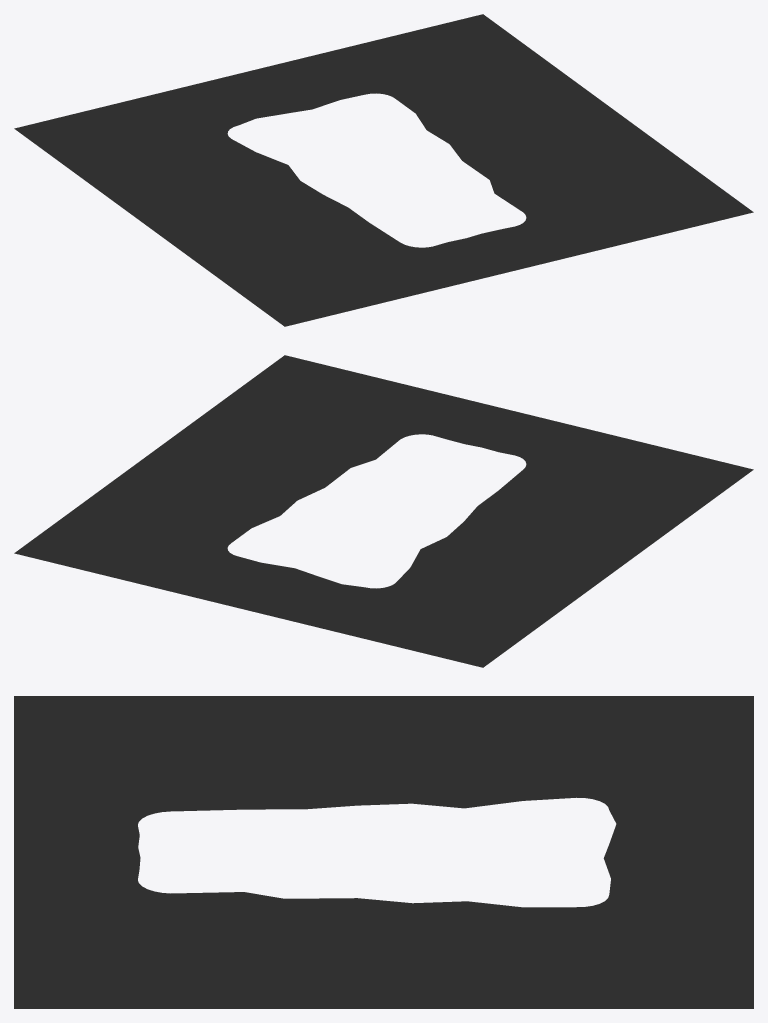
File: grass_1.fbx
3 views of the same model, one above another, from view 1: azimuth 30°, elevation 25°; view 2: azimuth 150°, elevation 25°; view 3: azimuth 270°, elevation 25° (orthographic). The views are drawn at different scales.
Parts seen in each view (by area): view 1: grass_1; view 2: grass_1; view 3: grass_1.
Boxes of the visible parts, left/top/right/bottom form: grass_1: left=14, top=14, right=753, bottom=326; grass_1: left=14, top=355, right=753, bottom=667; grass_1: left=14, top=696, right=753, bottom=1008.
Bounding box in the file's own units: 8.79 × 4.91e-11 × 8.79.
